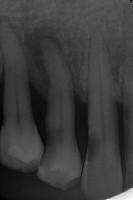Furcation Involvement: (24, 26, 63, 87)
